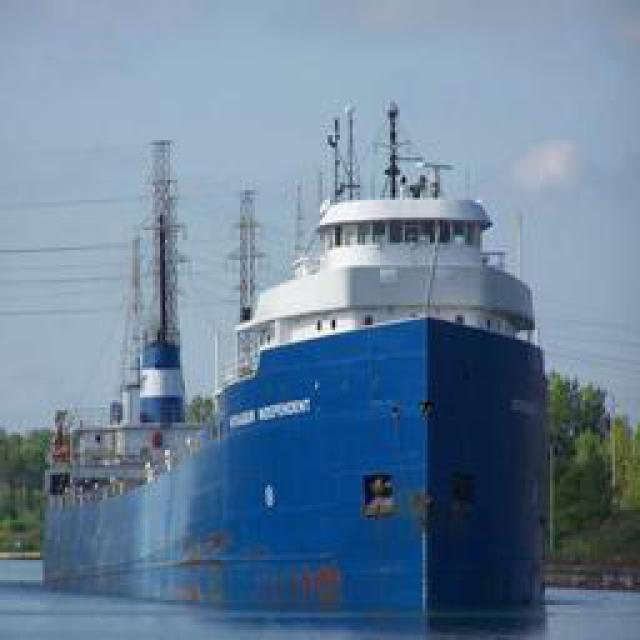Ship: (17, 75, 543, 623)
